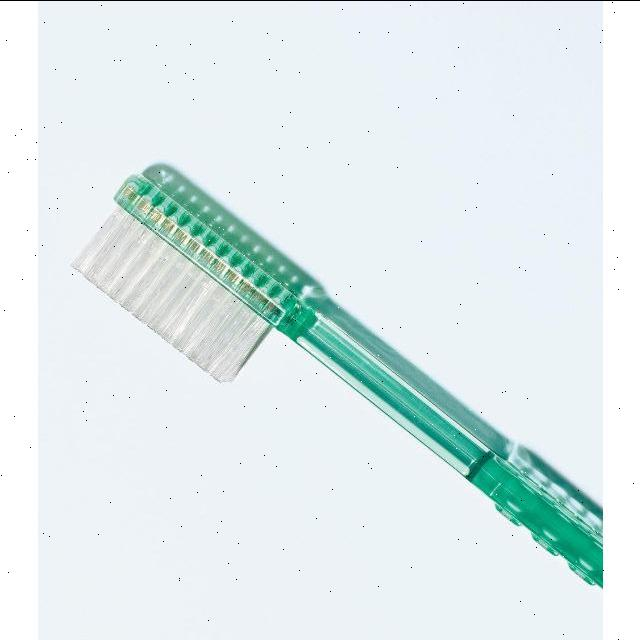toothbrush: (46, 134, 602, 640)
